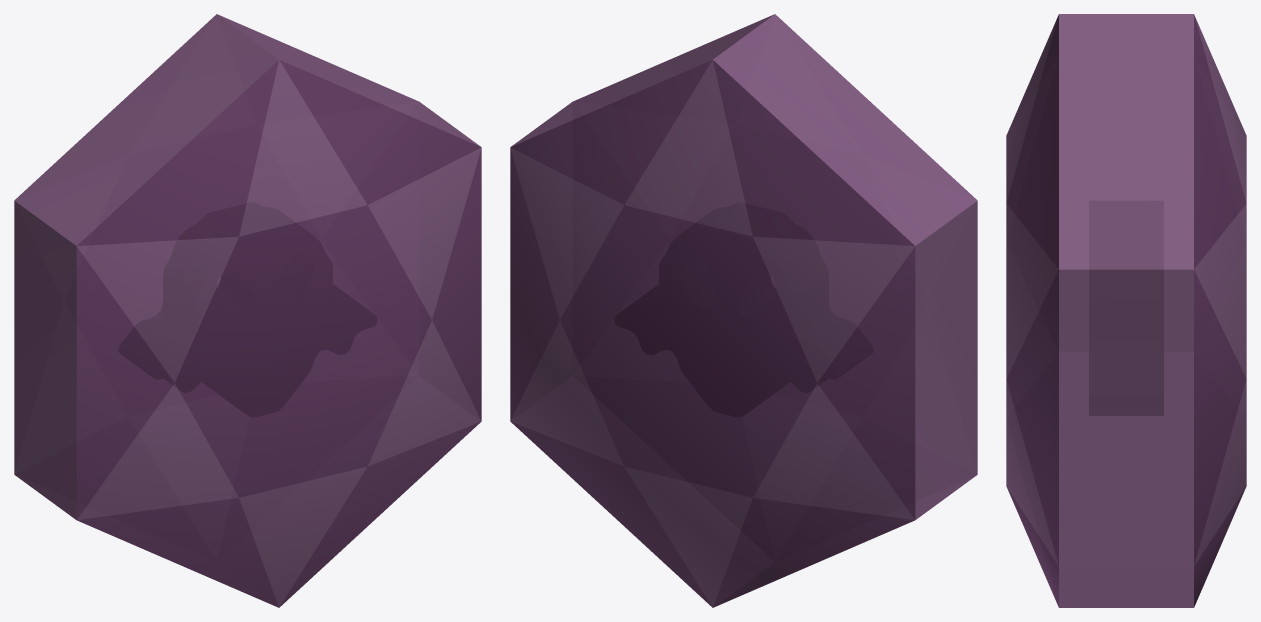
3 renders of one model, left to right at view 1: azimuth 30°, elevation 25°; view 2: azimuth 150°, elevation 25°; view 3: azimuth 270°, elevation 25°, orthographic. The views are drawn at different scales.
Parts seen in each view (by area): view 1: body; view 2: body; view 3: body.
Part boxes in pixels (box(x1,y1,x2,y2)): body: box(14, 14, 481, 607); body: box(510, 14, 977, 607); body: box(1006, 14, 1246, 607).
Size of the model in its own units: 0.1933 by 0.25 by 0.0916.
Materials: 2 (2 with a texture image).
